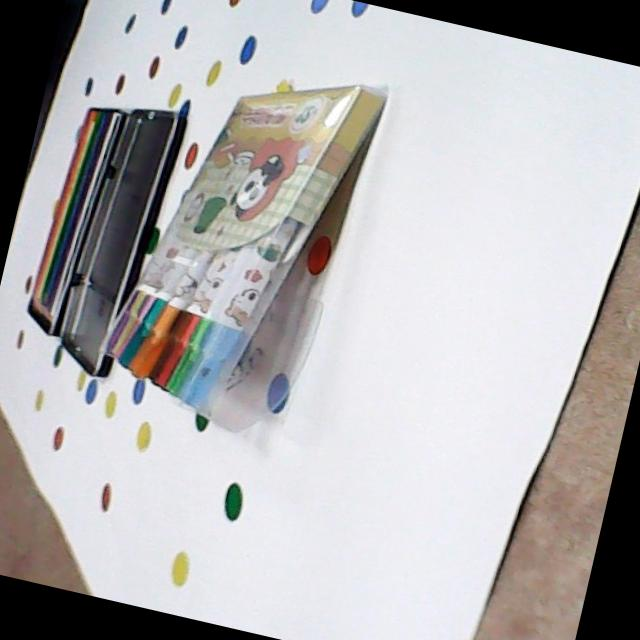color: (21, 100, 129, 340)
signpen: (100, 70, 400, 447)
